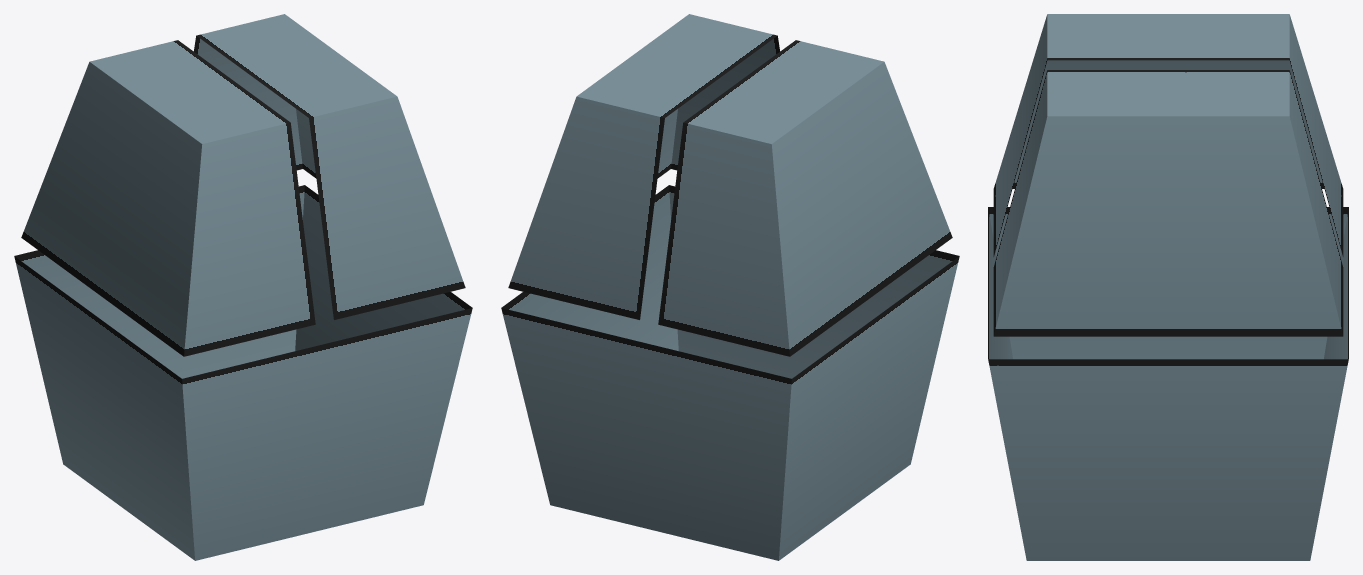
Rendered from C_GH_Body_M1.FBX.
3 views of the same model, side by side, from view 1: azimuth 30°, elevation 25°; view 2: azimuth 150°, elevation 25°; view 3: azimuth 270°, elevation 25° (orthographic). The views are drawn at different scales.
Visible parts, largest first — view 1: Body; view 2: Body; view 3: Body.
Boxes of the visible parts, x1=… form: Body: x1=14, y1=14, x2=472, y2=560; Body: x1=501, y1=14, x2=959, y2=560; Body: x1=988, y1=14, x2=1348, y2=560.
Bounding box in the file's own units: 15 × 20 × 15.
1 material, 1 textured.
